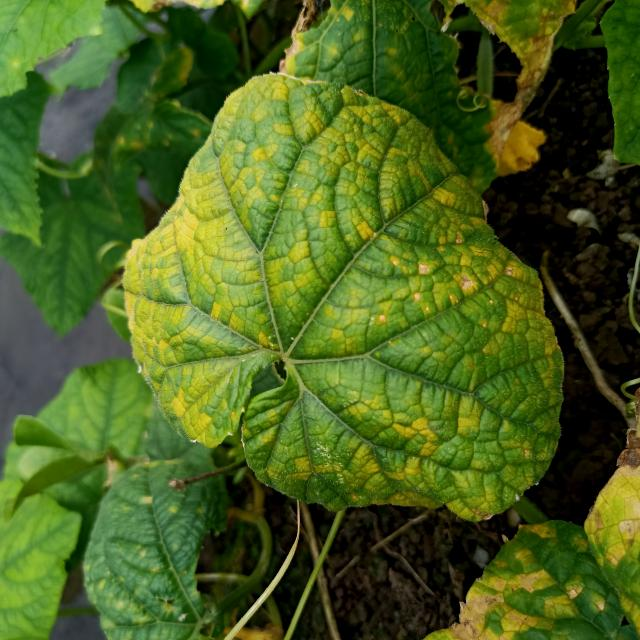disease_cucumber: (127, 80, 549, 504)
